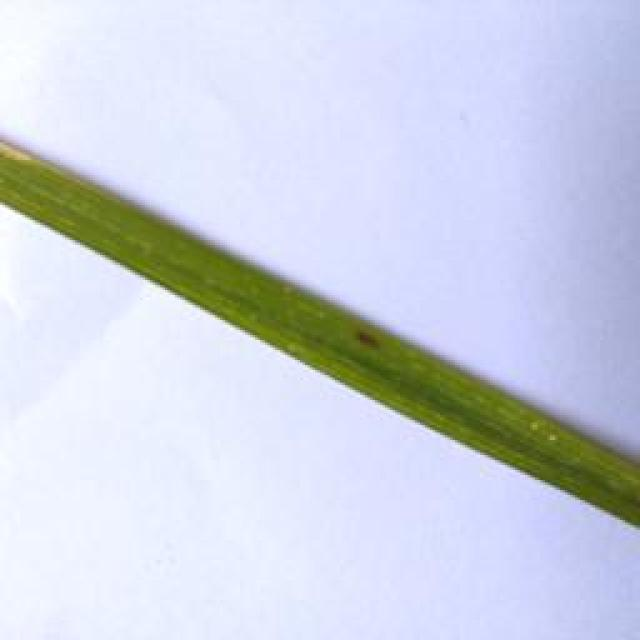Brown_Spot: (353, 325, 386, 353)
